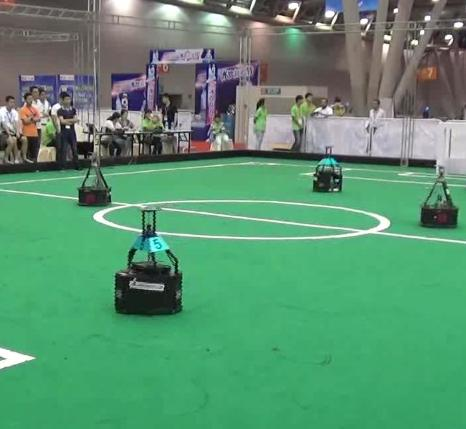robot: (109, 202, 188, 315), (417, 164, 461, 229), (73, 150, 113, 208), (308, 141, 344, 194)
